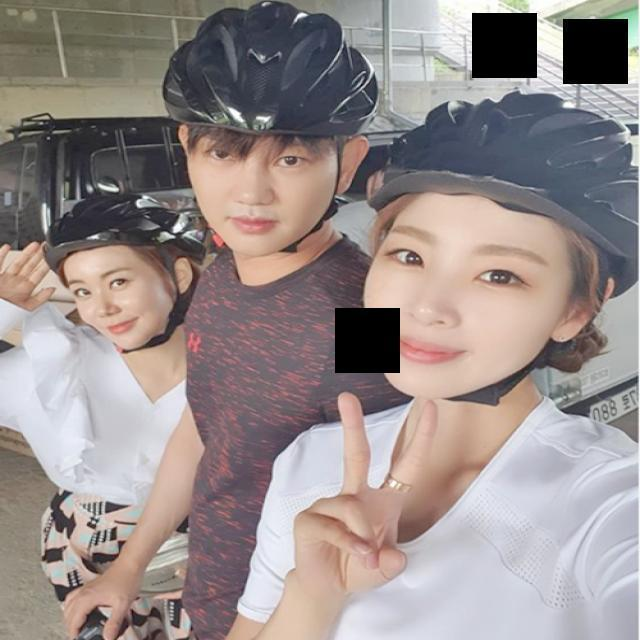helmet: (369, 90, 637, 301), (130, 0, 403, 148), (14, 190, 215, 269)
